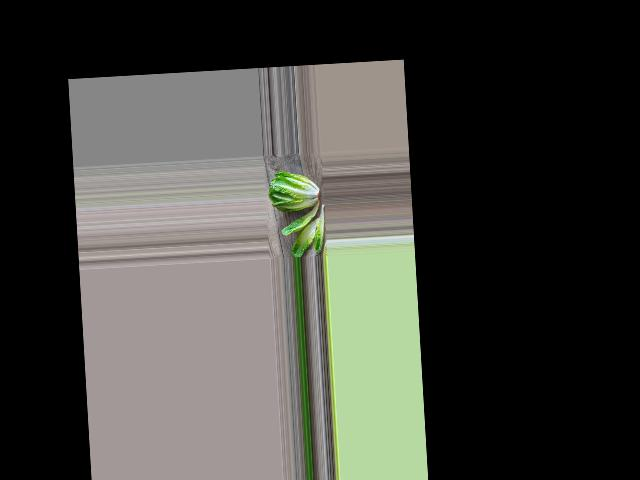lettuce: (267, 167, 319, 214)
